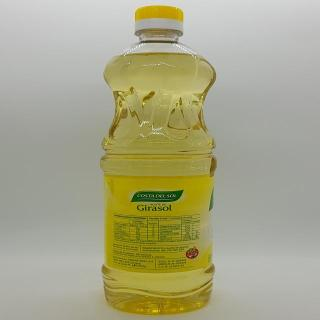Plastic-bottle: (91, 4, 223, 319)
